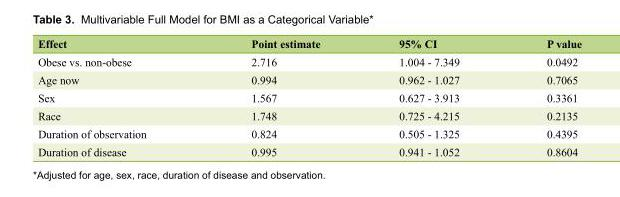table: (37, 36, 581, 157)
table column: (37, 36, 198, 157), (198, 36, 358, 157), (358, 36, 502, 157), (502, 36, 581, 157)
table column header: (37, 36, 581, 52)
table row: (37, 52, 581, 70), (37, 70, 581, 88), (37, 88, 581, 106), (37, 106, 581, 124), (37, 124, 581, 142), (37, 36, 581, 52), (37, 142, 581, 157)
